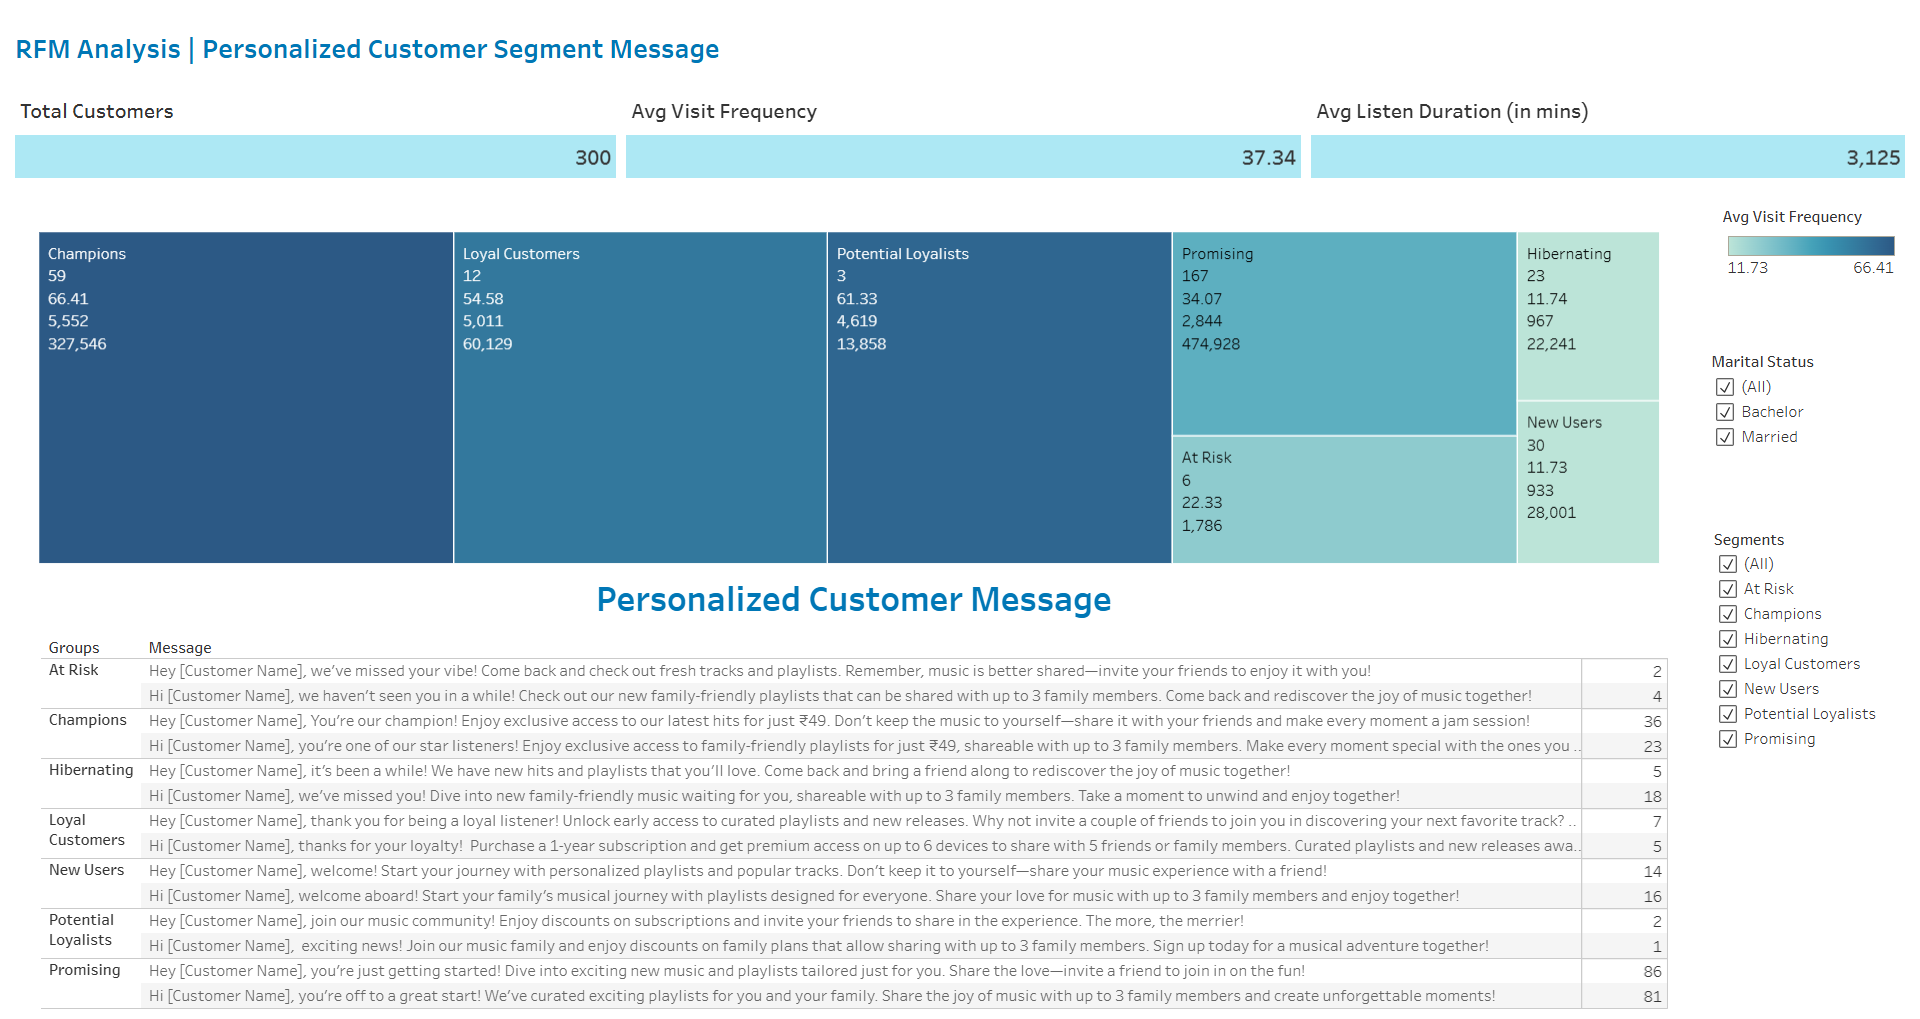

The page's visual inventory and layout, read from the dashboard file:
{"tool":"tableau","page":{"name":"Dashboard ","canvas":[1000,1000],"units":"permille","ordinal":0},"visuals":[{"type":"text","box":[4.8,10,990.3,68.7]},{"type":"worksheet","title":"Total Customers","mark":"Automatic","box":[4.8,78.6,318.6,96.1]},{"type":"worksheet","title":"Avg Visit Frequency","mark":"Automatic","box":[323.4,78.6,357.3,96.1]},{"type":"worksheet","title":"Avg Listen Duration (in mins)","mark":"Automatic","box":[680.7,78.6,314.4,96.1]},{"type":"blank","box":[4.8,174.8,990.3,815.2]},{"type":"legend","title":"Segmentation","param":"[federated.0taliek184na4210j7rzv1i851el].[usr:Calculation_938719096763686914:qk]","box":[897.4,197.2,92.3,109.9]},{"type":"worksheet","title":"Segmentation","mark":"Automatic","box":[16.9,198.5,849.7,344.6]},{"type":"filter","title":"Personalized Message","param":"[federated.0taliek184na4210j7rzv1i851el].[none:Marital Status:nk]","box":[891.1,333.9,103.6,161.4]},{"type":"filter","title":"Segmentation","param":"[federated.0taliek184na4210j7rzv1i851el].[none:Segments:nk]","box":[892.6,504.6,103.6,265.3]},{"type":"worksheet","title":"Personalized Message","mark":"Automatic","rows":["Groups","Message"],"box":[21.3,541.7,846.9,445.3]}]}

Visuals, with their boxes on the dashboard's canvas, which has no fixed pixel size, in thousandths of its width and height (x1, y1, x2, y2). These are canvas units, not pixel positions in the 1920x1019 screenshot, which may show the page scaled, cropped or inside an application window:
text: [5, 10, 995, 79]
"Total Customers" worksheet: [5, 79, 323, 175]
"Avg Visit Frequency" worksheet: [323, 79, 681, 175]
"Avg Listen Duration (in mins)" worksheet: [681, 79, 995, 175]
blank: [5, 175, 995, 990]
"Segmentation" legend: [897, 197, 990, 307]
"Segmentation" worksheet: [17, 198, 867, 543]
"Personalized Message" filter: [891, 334, 995, 495]
"Segmentation" filter: [893, 505, 996, 770]
"Personalized Message" worksheet: [21, 542, 868, 987]
